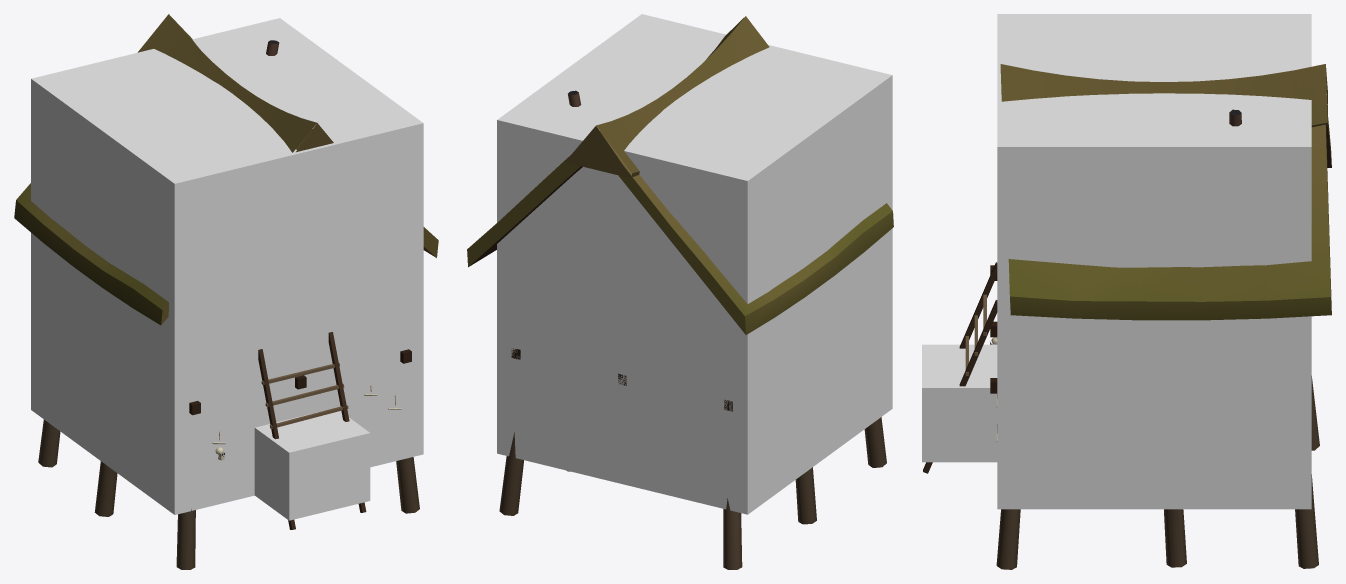
The model's file is swamp_hut.glb.
3 views of the same model, side by side, from view 1: azimuth 30°, elevation 25°; view 2: azimuth 150°, elevation 25°; view 3: azimuth 270°, elevation 25° (orthographic). The views are drawn at different scales.
Visible parts, largest first — view 1: COL_body, swamp_hut, COL_ladder; view 2: COL_body, swamp_hut; view 3: COL_body, swamp_hut, COL_ladder.
Part boxes in pixels (left/top/right/bottom): COL_body: left=31, top=18, right=423, bottom=514; swamp_hut: left=14, top=14, right=438, bottom=569; COL_ladder: left=254, top=411, right=370, bottom=520; COL_body: left=497, top=14, right=892, bottom=514; swamp_hut: left=467, top=16, right=893, bottom=569; COL_body: left=997, top=14, right=1311, bottom=509; swamp_hut: left=923, top=64, right=1331, bottom=569; COL_ladder: left=922, top=344, right=997, bottom=462.
Size of the model in its own units: 5.13 by 7.3 by 6.
